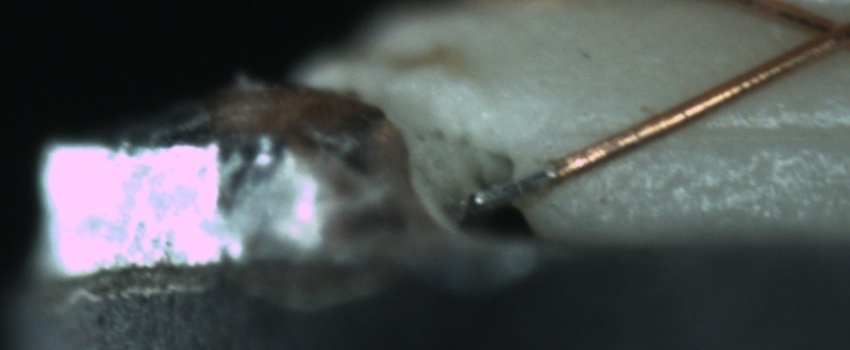CL: (795, 3, 849, 60)
DL: (563, 98, 849, 163)
TS: (470, 165, 557, 212)
